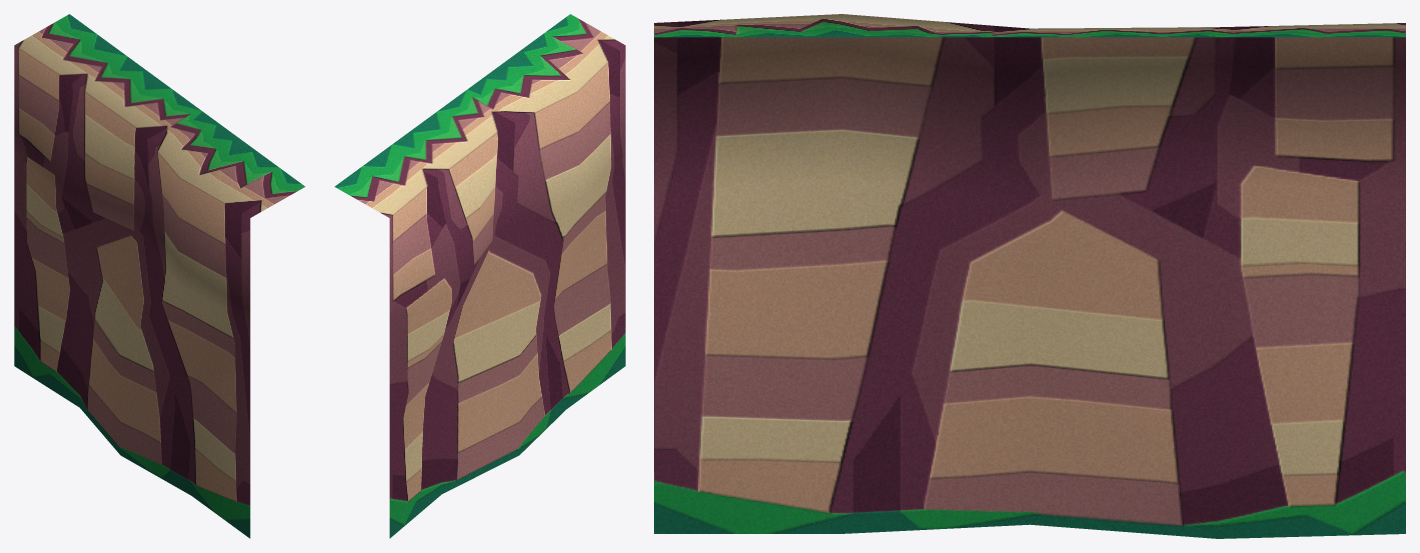
File: Wall1.FBX
3 renders of one model, left to right at view 1: azimuth 30°, elevation 25°; view 2: azimuth 150°, elevation 25°; view 3: azimuth 270°, elevation 25°, orthographic. The views are drawn at different scales.
Parts seen in each view (by area): view 1: Plane001; view 2: Plane001; view 3: Plane001.
Boxes of the visible parts, x1,y1,x2,y2 form: Plane001: (14,14,305,538); Plane001: (334,14,625,538); Plane001: (654,14,1405,538).
Size of the model in its own units: 5.06 by 23.75 by 30.
Materials: 1 (1 with a texture image).
